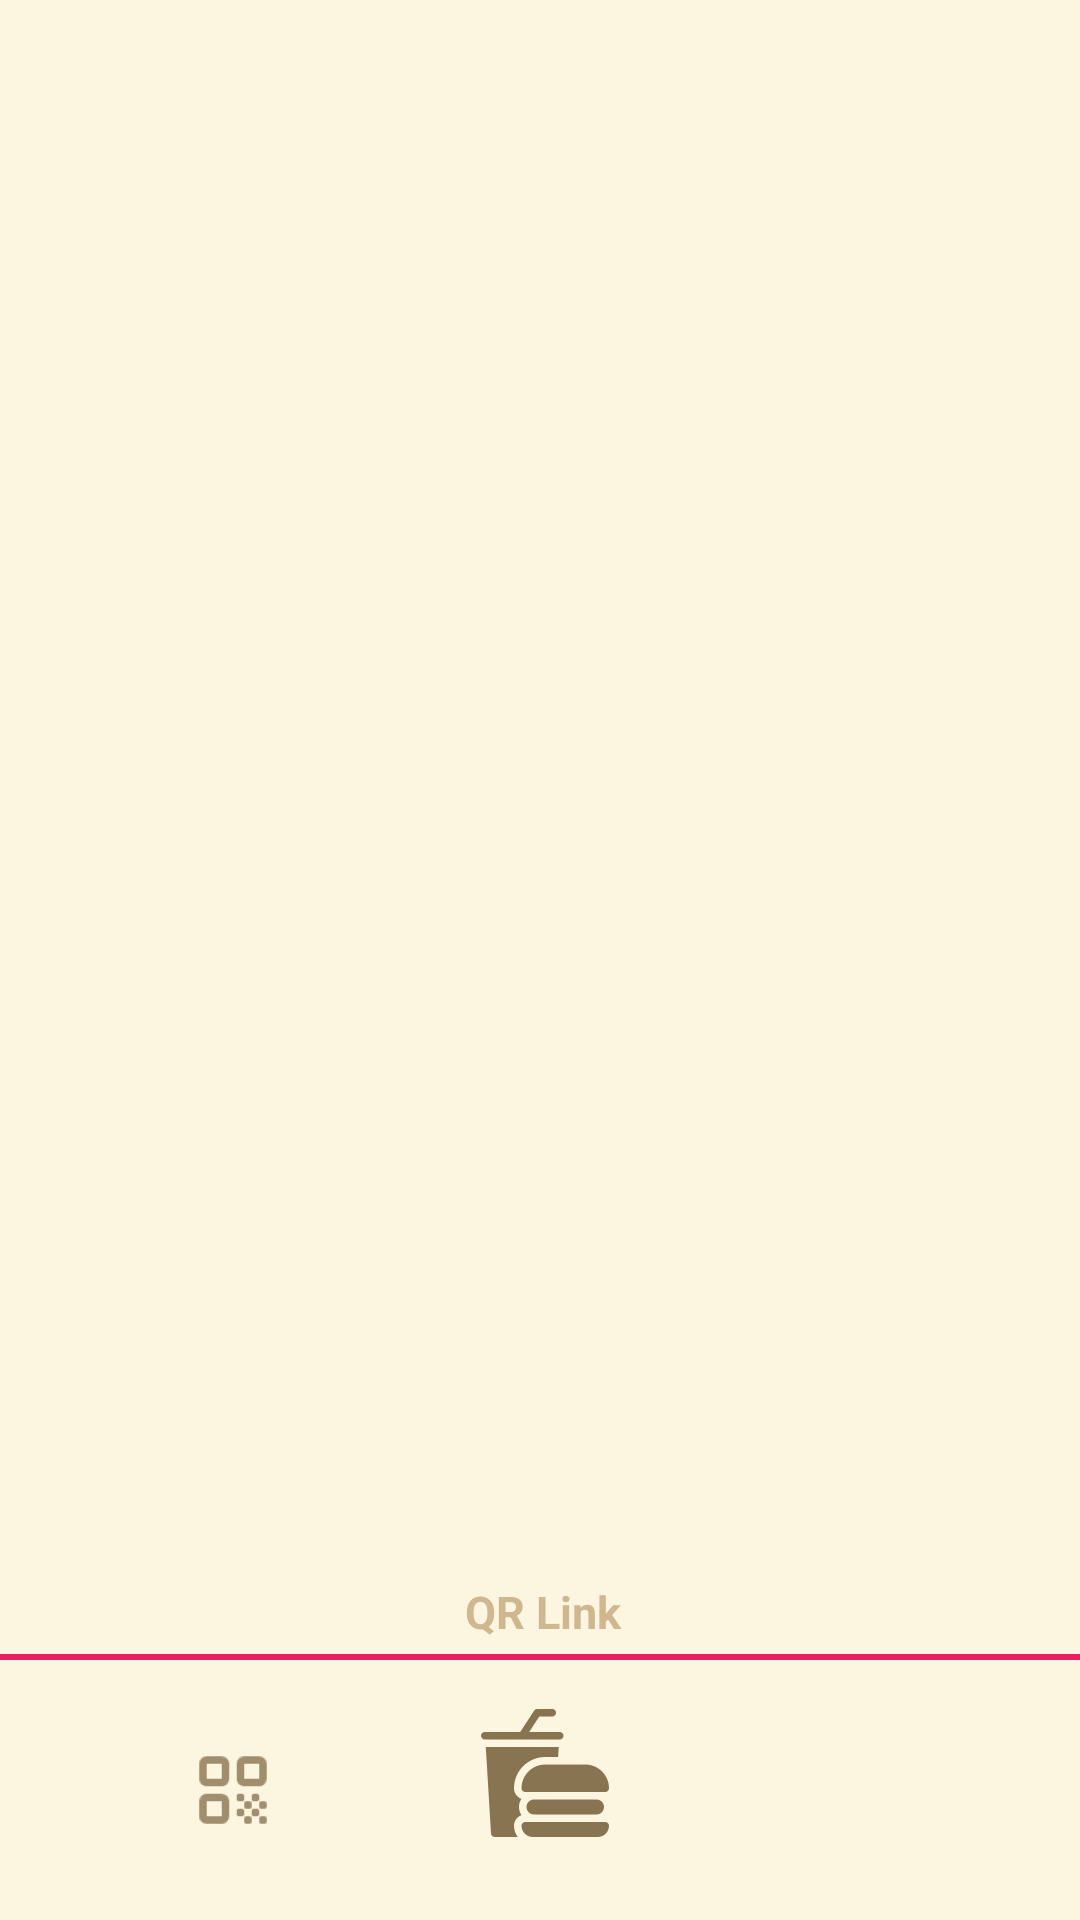

Icon click points for this 1080w x 1920h phone screenshot, format [x,y]:
fastfood: [545,1773]
